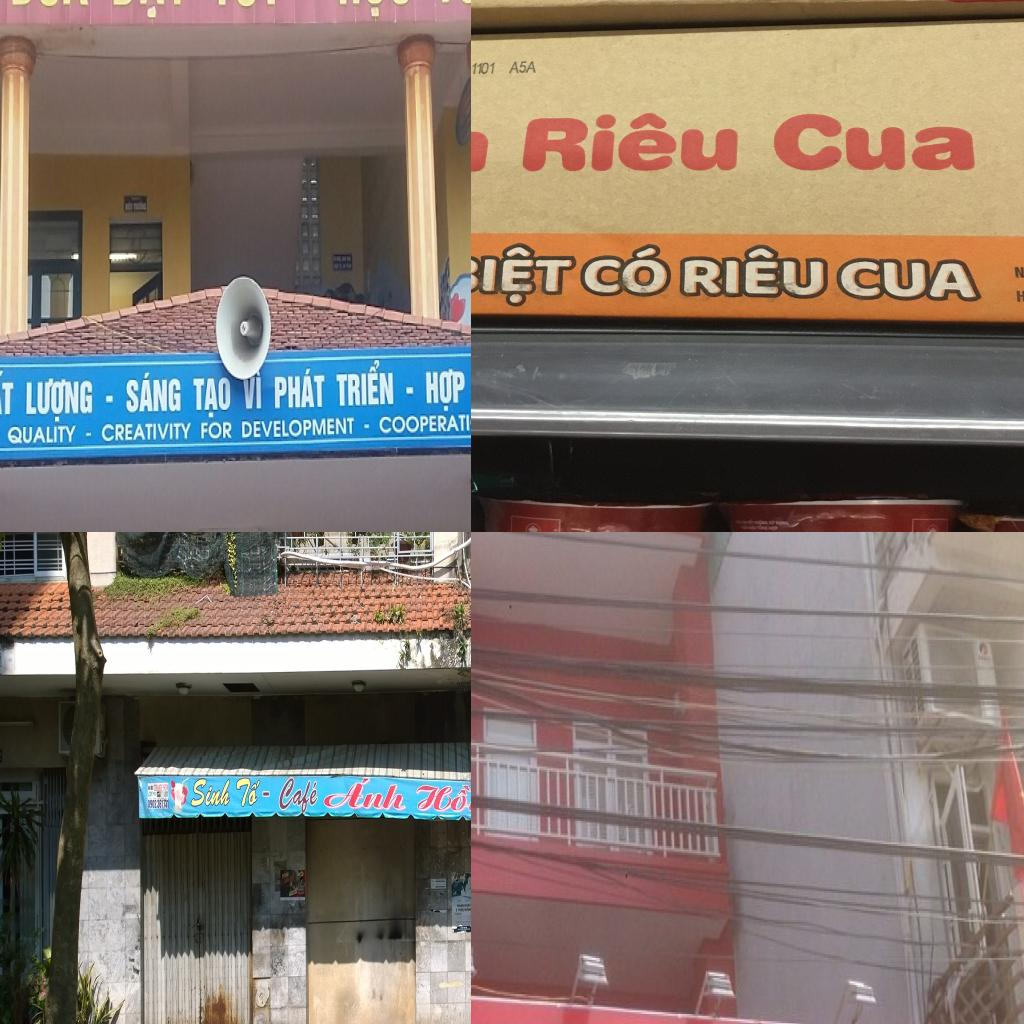text: (471, 0, 642, 178), (471, 140, 645, 269), (900, 101, 988, 243), (902, 0, 986, 81), (572, 0, 696, 53), (321, 776, 409, 816), (25, 373, 95, 423), (240, 414, 356, 441), (335, 358, 395, 408), (123, 366, 183, 414), (271, 367, 327, 413), (414, 778, 471, 821), (100, 420, 194, 444), (377, 413, 471, 437), (277, 773, 322, 817), (108, 0, 191, 23), (425, 366, 467, 411), (192, 373, 233, 418), (7, 421, 77, 447), (335, 0, 414, 20), (191, 776, 232, 809), (7, 0, 92, 13), (242, 366, 263, 411), (840, 128, 860, 174), (235, 775, 262, 809), (690, 243, 718, 275), (0, 368, 17, 419), (844, 180, 862, 224), (200, 420, 234, 442), (692, 284, 719, 308), (845, 226, 864, 255), (691, 216, 716, 234), (836, 68, 855, 90), (838, 99, 857, 120), (694, 322, 719, 336), (103, 390, 116, 406), (133, 201, 147, 212), (404, 386, 416, 397), (124, 202, 134, 212), (967, 300, 979, 308), (153, 783, 163, 792), (83, 430, 93, 438), (261, 790, 271, 798), (363, 421, 371, 430), (163, 783, 169, 791), (464, 906, 471, 912), (457, 903, 464, 908), (464, 902, 471, 907), (458, 908, 465, 913), (456, 908, 458, 912)
